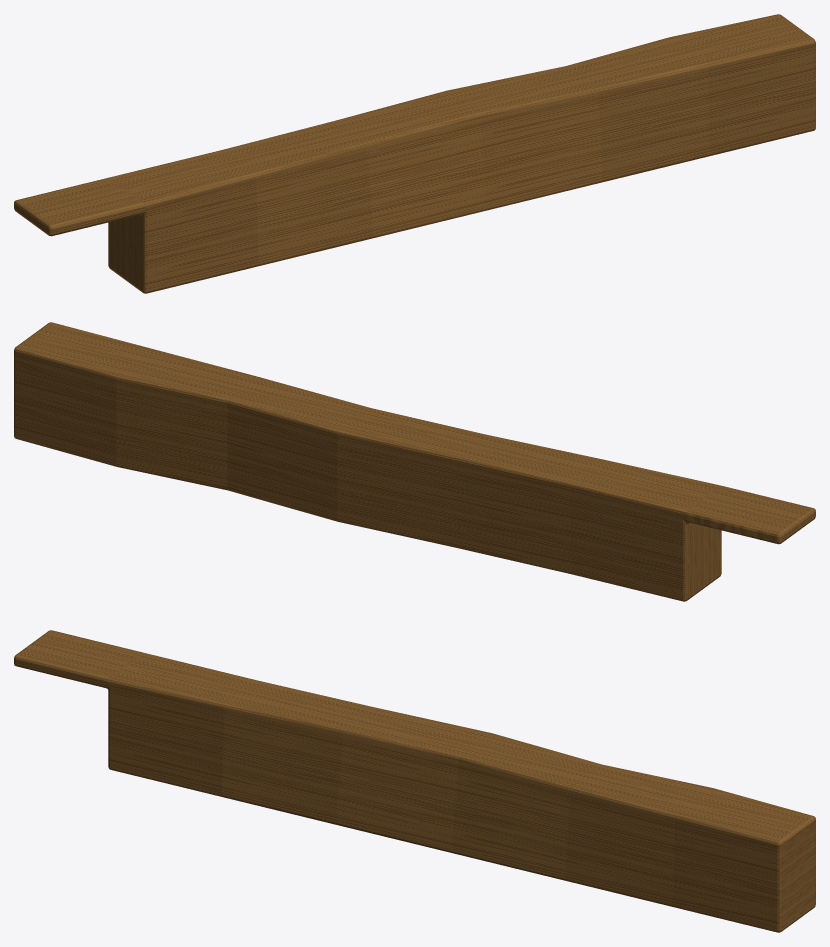
Rendered from contoir.fbx.
3 renders of one model, top to bottom at view 1: azimuth 30°, elevation 25°; view 2: azimuth 150°, elevation 25°; view 3: azimuth 330°, elevation 25°, orthographic.
Visible parts, largest first — view 1: contoir; view 2: contoir; view 3: contoir.
Boxes of the visible parts, x1,y1,x2,y2 form: contoir: (14, 14, 815, 293); contoir: (14, 322, 815, 601); contoir: (14, 630, 815, 932).
Bounding box in the file's own units: 946 × 108 × 89.07.
